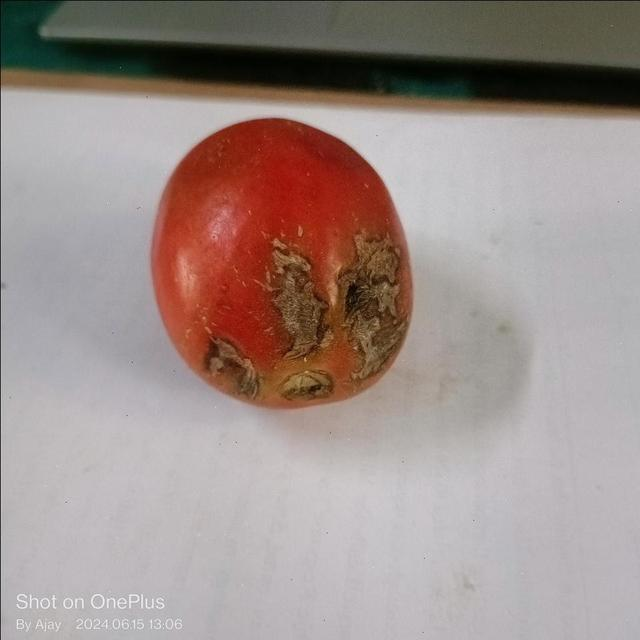Bacterial Spot Fruit: (40, 49, 250, 244)
